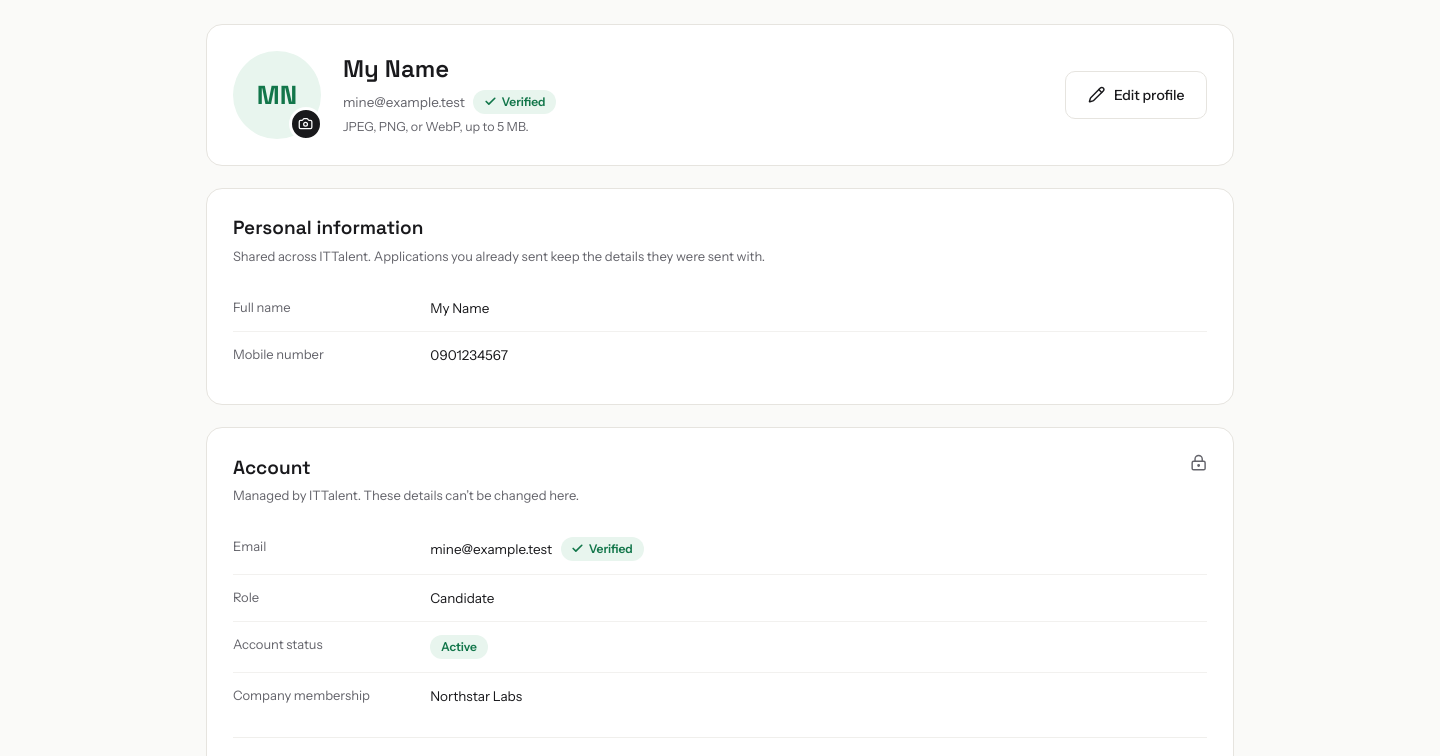
Test: ProfilePage › keeps email, role, status and company membership read-only while editing
The width and height of the screenshot is (1440, 756).
What coordinates should you click on to do the following:
click the button "Edit profile"
I would click on:
 (1136, 95)
Its box is [1065,71,1207,119].
(page scrolled)
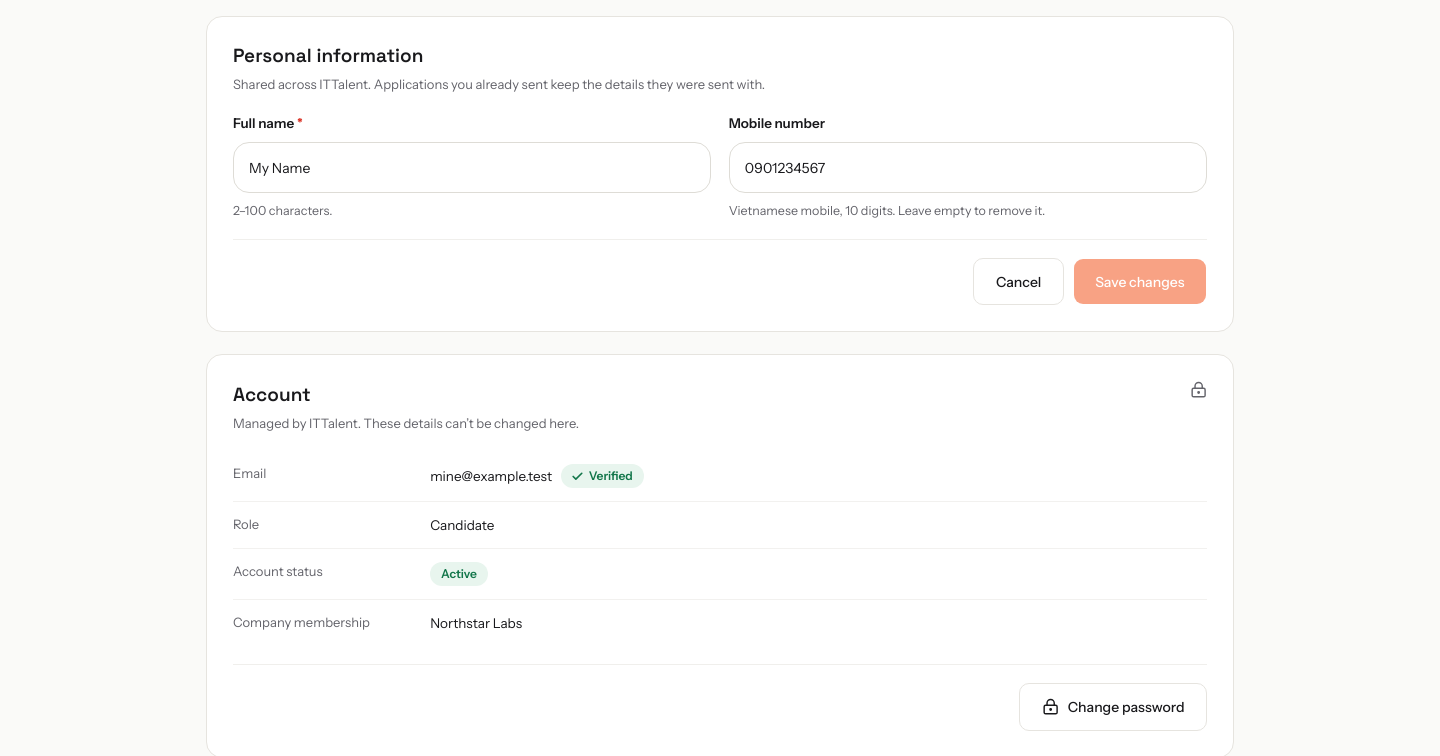
Expected: the text "Northstar Labs" is shown, [430,615,522,631]
Result: the field labelled "Full name *" is enabled at [233,142,711,194]
Result: the field labelled "Mobile number" is enabled at [729,142,1207,194]
